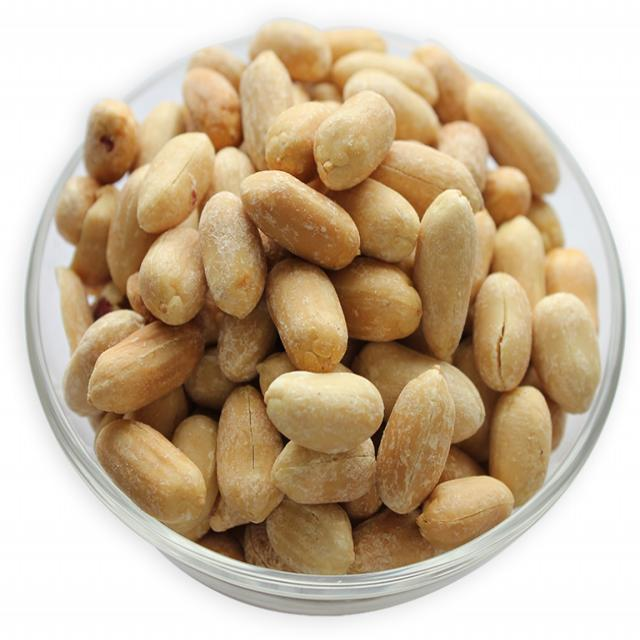Frutta secca: (55, 22, 604, 570)
